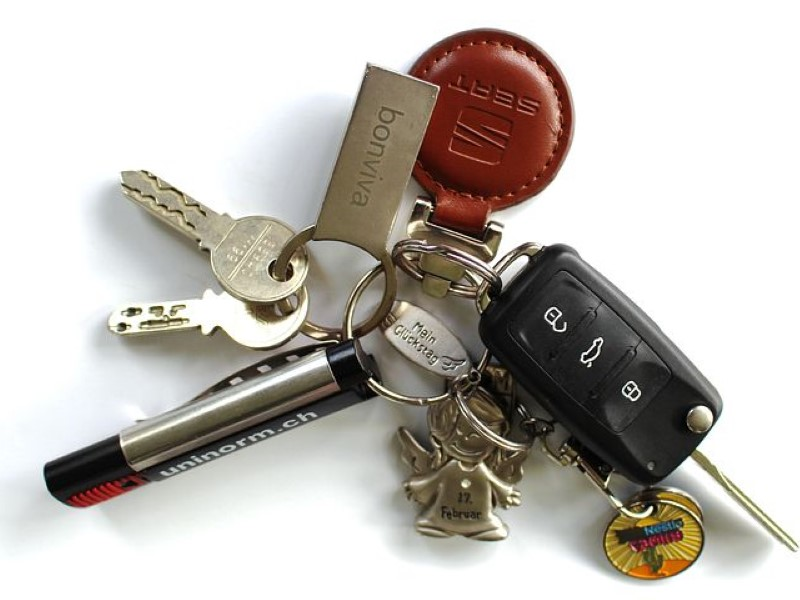carkey: (476, 240, 798, 561)
key: (99, 159, 309, 355)
